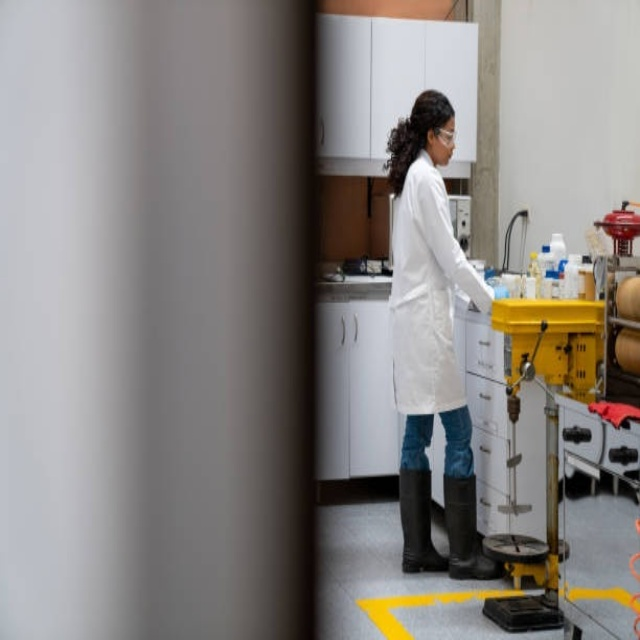Gafas: (435, 127, 456, 144)
